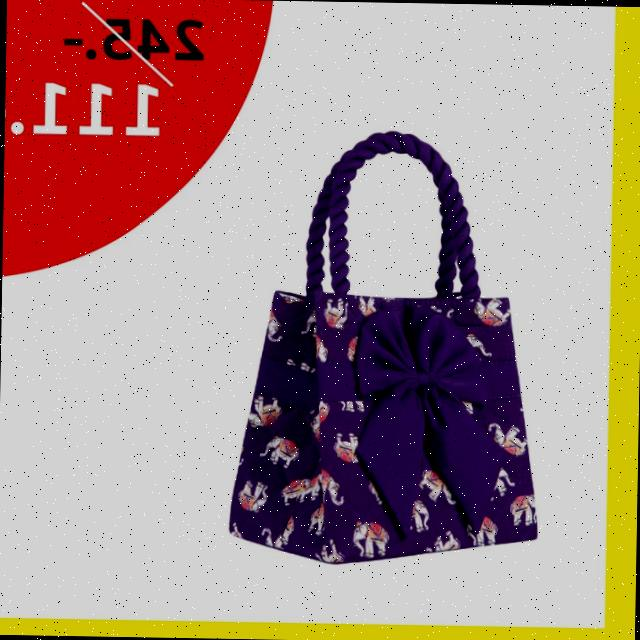handbag: (212, 125, 550, 579)
